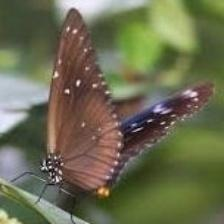butterfly: (40, 8, 214, 197)
